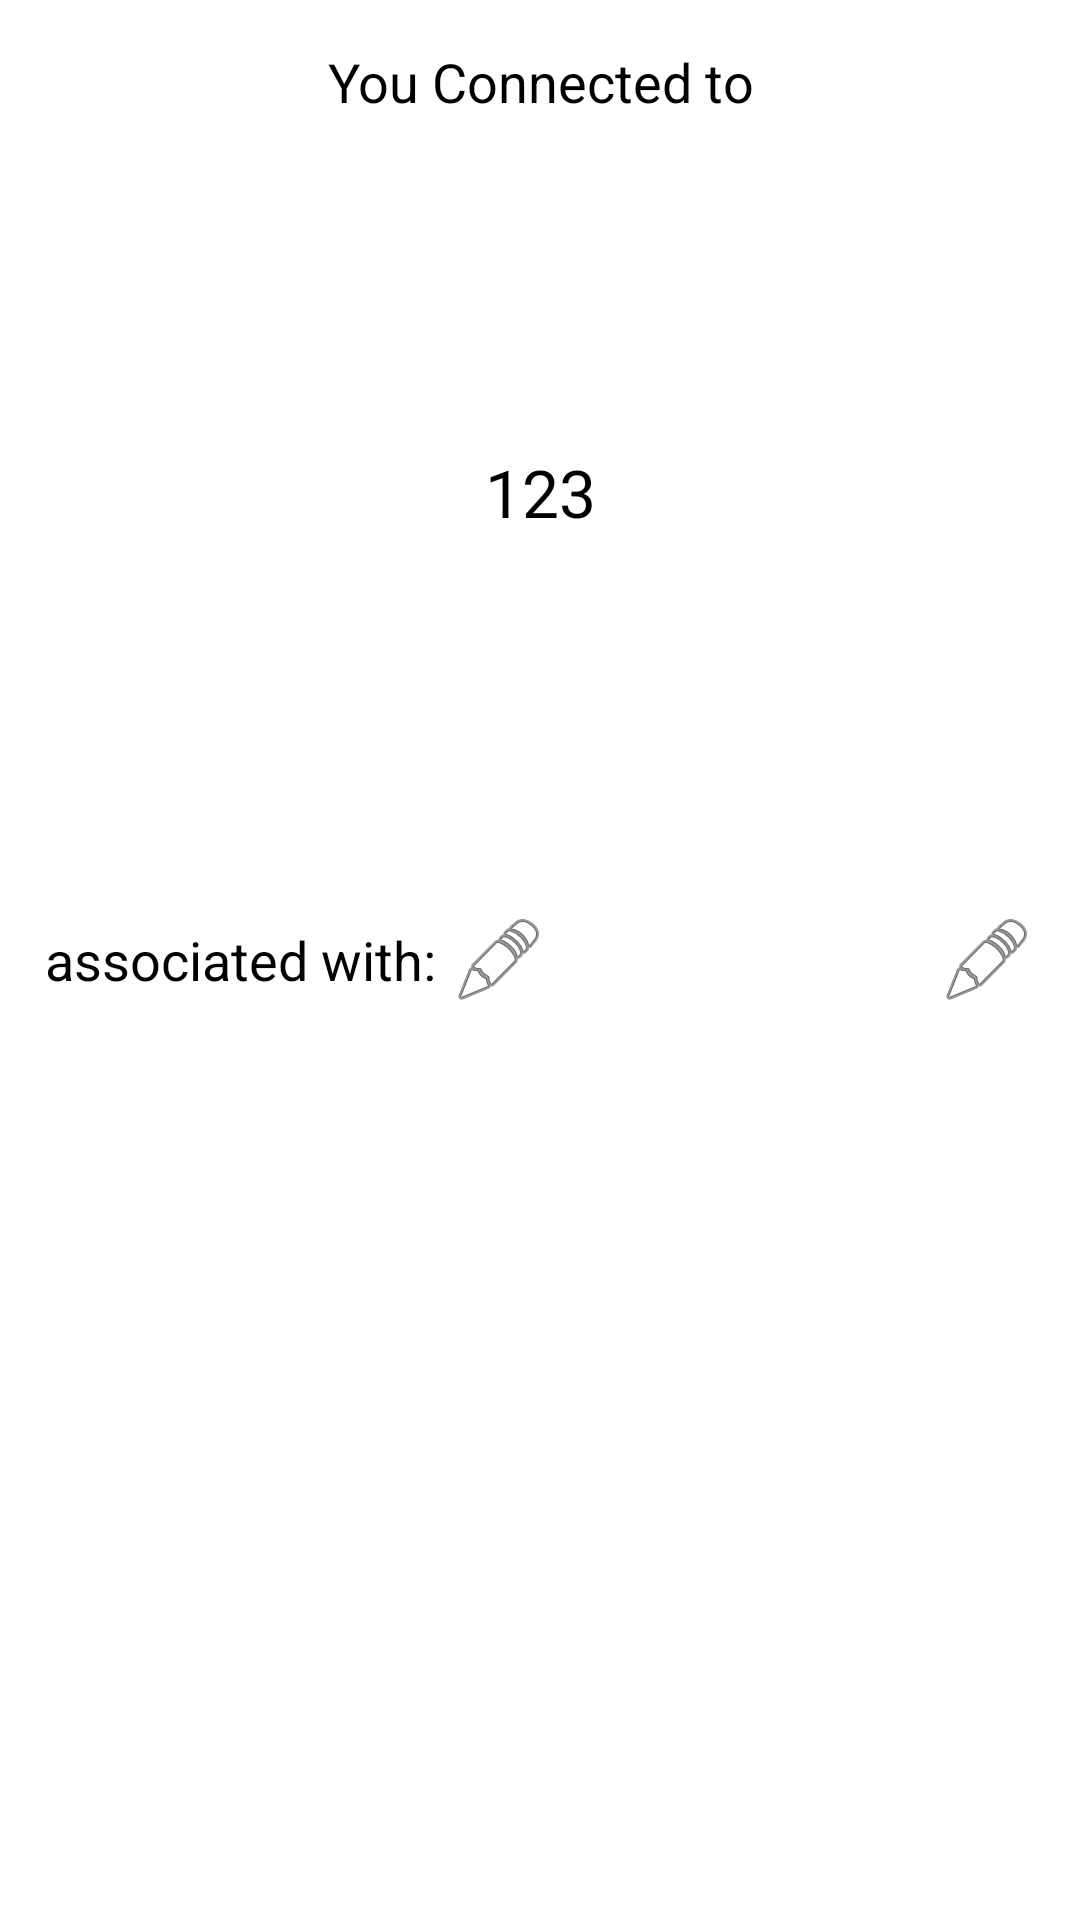

Icon bounding boxes for this 1080w x 1920h phone screenshot, format (x1, y1, x2, y2):
edit: (458, 919, 539, 1000), (946, 919, 1027, 1000)
